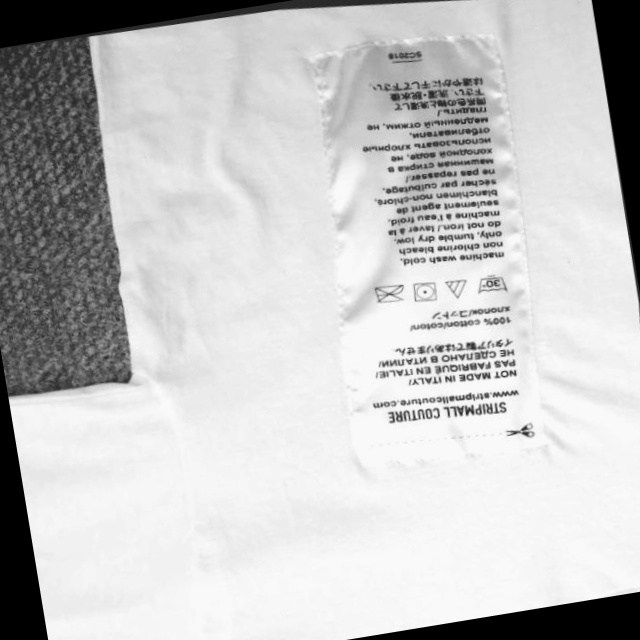30C: (474, 271, 512, 296)
DN_iron: (368, 280, 407, 310)
non_chlorine_bleach: (443, 276, 471, 300)
tumble_dry_low: (409, 278, 444, 304)
